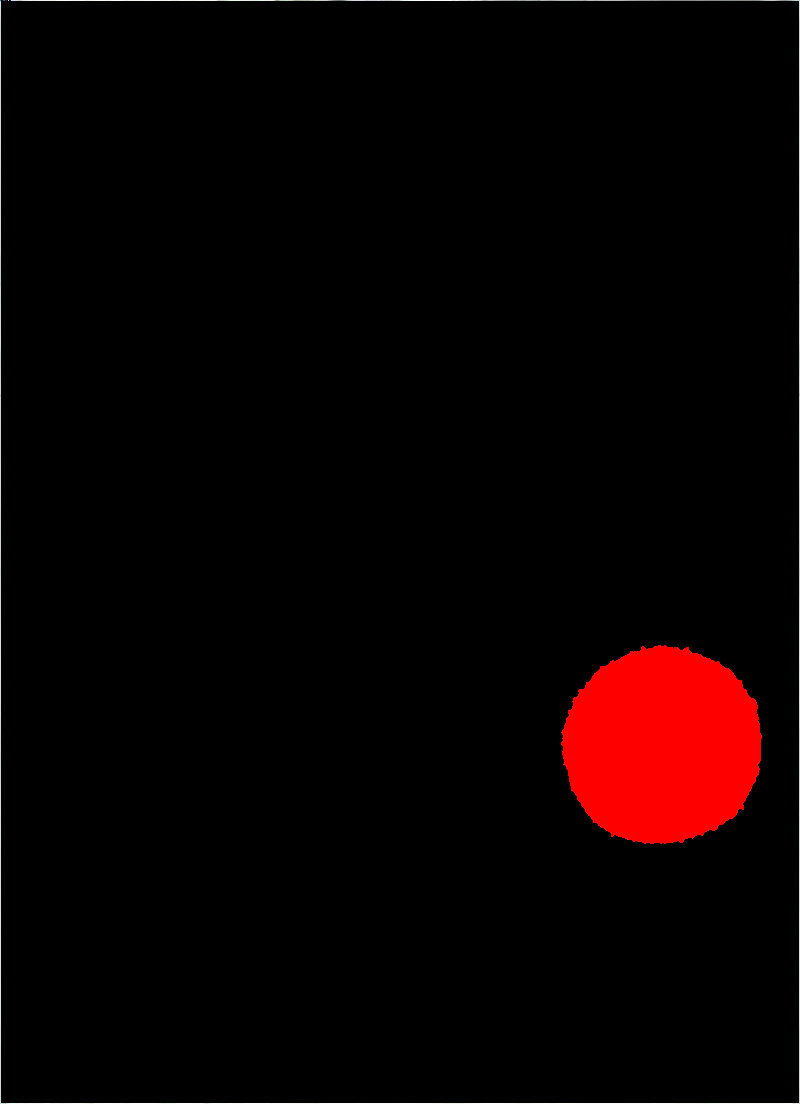stamp: (564, 644, 760, 842)
